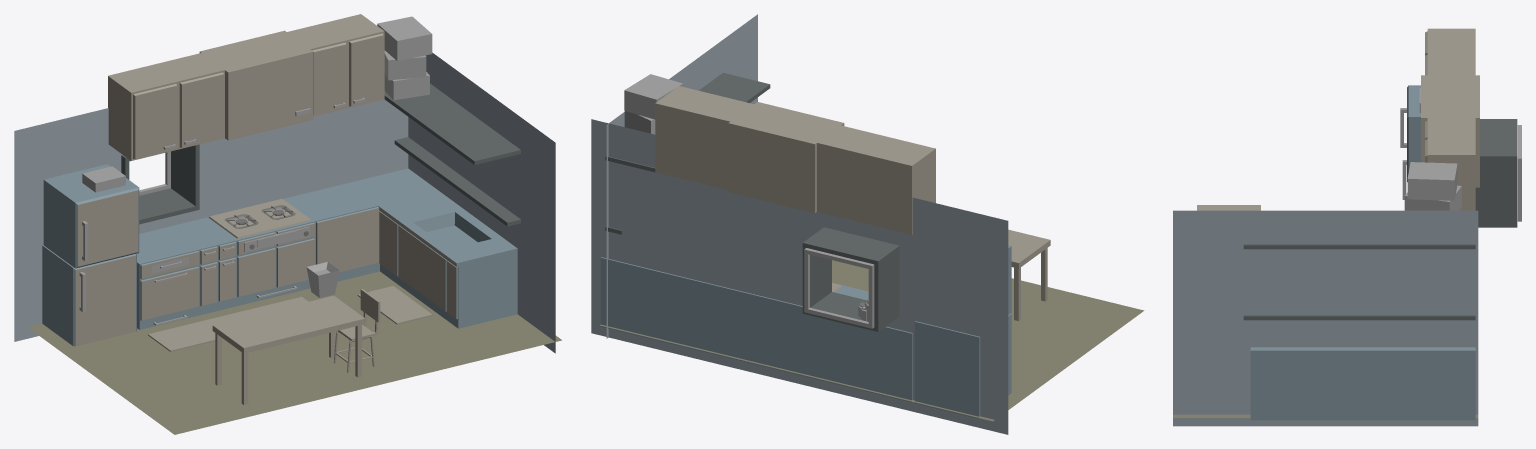
File: 3d_homekitchen.fbx
The picture shows the model from 3 angles, left to right: view 1: azimuth 30°, elevation 25°; view 2: azimuth 150°, elevation 25°; view 3: azimuth 270°, elevation 25°; orthographic projection. The views are drawn at different scales.
Parts seen in each view (by area): view 1: pPlane49, pPlane52, pPlane50, pCube374, pCube351, pCube347, pCube346, pCube379, pCube377, pCube345, pCube342, pCube344 (+16 smaller); view 2: pPlane52, pPlane49, pCube351, pCube379, pCube377, pCube391, pCube346, pCube344, pCube373, pCube345, pCube342, pPlane50 (+6 smaller); view 3: pPlane50, pCube374, pCube373, pCube391, pCube377, pCube379, pCube351, pCube384, pCube381, pCube389, pCube347, pCube383 (+2 smaller).
Part boxes in pixels (<box>): pPlane49: <box>27,271,561,434</box>; pPlane52: <box>14,99,408,341</box>; pPlane50: <box>408,52,555,353</box>; pCube374: <box>378,191,517,328</box>; pCube351: <box>108,53,224,160</box>; pCube347: <box>43,164,139,268</box>; pCube346: <box>42,245,136,346</box>; pCube379: <box>199,30,313,124</box>; pCube377: <box>287,14,384,116</box>; pCube345: <box>284,183,379,281</box>; pCube342: <box>137,227,199,329</box>; pCube344: <box>206,199,315,305</box>; pPlane52: <box>591,119,1008,434</box>; pPlane49: <box>600,260,1144,421</box>; pCube351: <box>817,125,935,234</box>; pCube379: <box>728,102,844,196</box>; pCube377: <box>655,86,753,189</box>; pCube391: <box>802,227,899,331</box>; pCube346: <box>914,313,1011,418</box>; pCube344: <box>734,282,845,378</box>; pCube373: <box>600,257,668,342</box>; pCube345: <box>668,273,734,359</box>; pCube342: <box>851,325,912,402</box>; pPlane50: <box>606,14,757,338</box>; pPlane50: <box>1173,210,1478,426</box>; pCube374: <box>1250,347,1410,420</box>; pCube373: <box>1411,347,1475,420</box>; pCube391: <box>1475,119,1517,227</box>; pCube377: <box>1425,118,1475,210</box>; pCube379: <box>1421,75,1479,170</box>; pCube351: <box>1425,28,1475,75</box>; pCube384: <box>1407,162,1457,200</box>; pCube381: <box>1243,244,1475,249</box>; pCube389: <box>1243,315,1475,320</box>; pCube347: <box>1407,85,1420,181</box>; pCube383: <box>1404,185,1461,210</box>.
Size of the model in its own units: 10.02 by 5.65 by 7.2.
